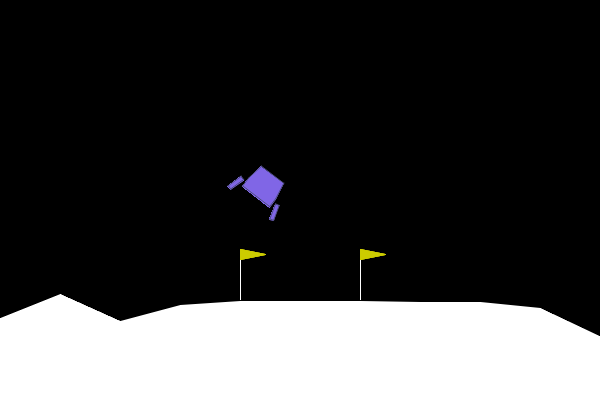lander: (225, 155, 297, 223)
